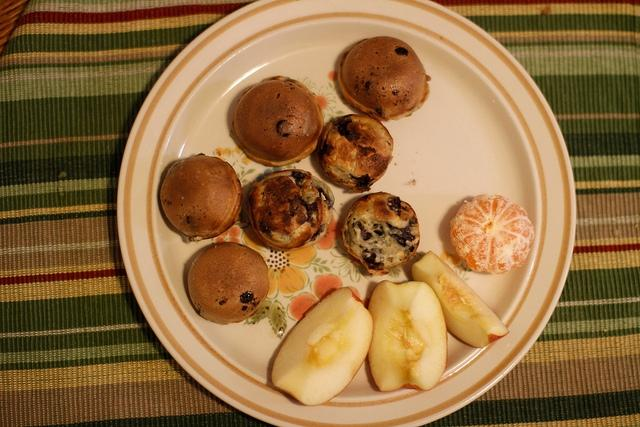apple: (272, 287, 374, 406), (412, 251, 508, 349), (367, 280, 448, 392)
